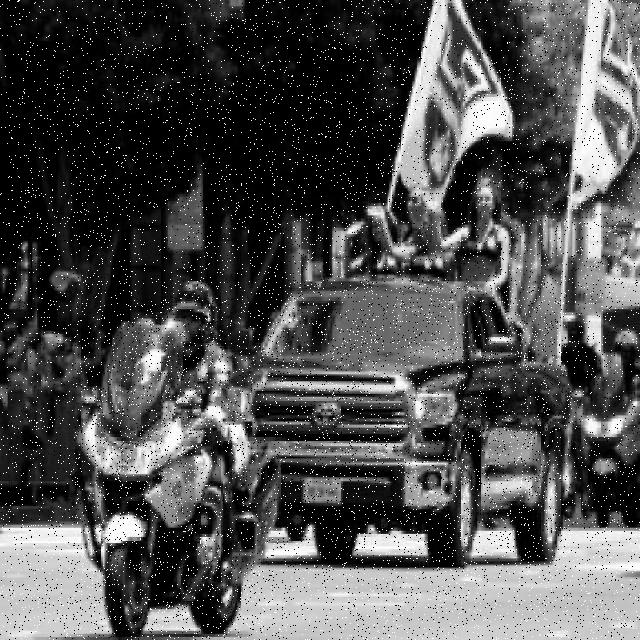Motorbike: (76, 281, 280, 639)
Pickup: (225, 280, 571, 570)
